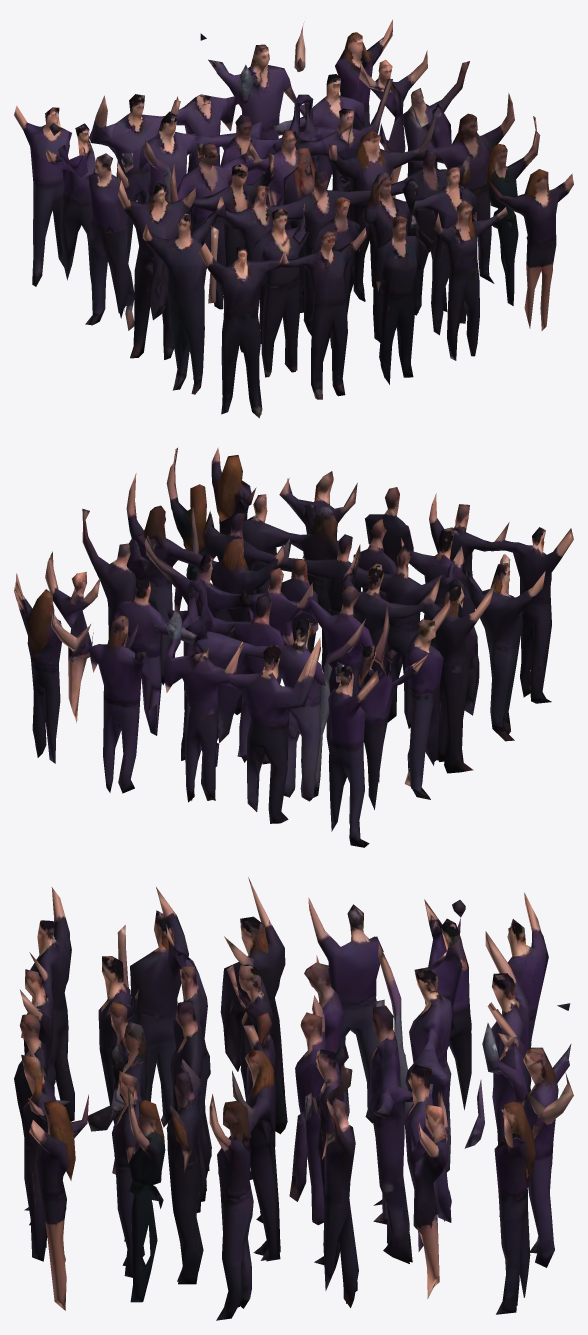
File: crowd-block-s1.glb
The picture shows the model from 3 angles, top to bottom: view 1: azimuth 30°, elevation 25°; view 2: azimuth 150°, elevation 25°; view 3: azimuth 270°, elevation 25°; orthographic projection. The views are drawn at different scales.
Parts seen in each view (by area): view 1: geometry_0; view 2: geometry_0; view 3: geometry_0.
Part boxes in pixels (x1,y1,x2,y2): geometry_0: (14,19,573,418); geometry_0: (14,447,573,847); geometry_0: (14,877,573,1320).
Bounding box in the file's own units: 0.9826 × 0.4785 × 0.9788.
1 material, 1 textured.
